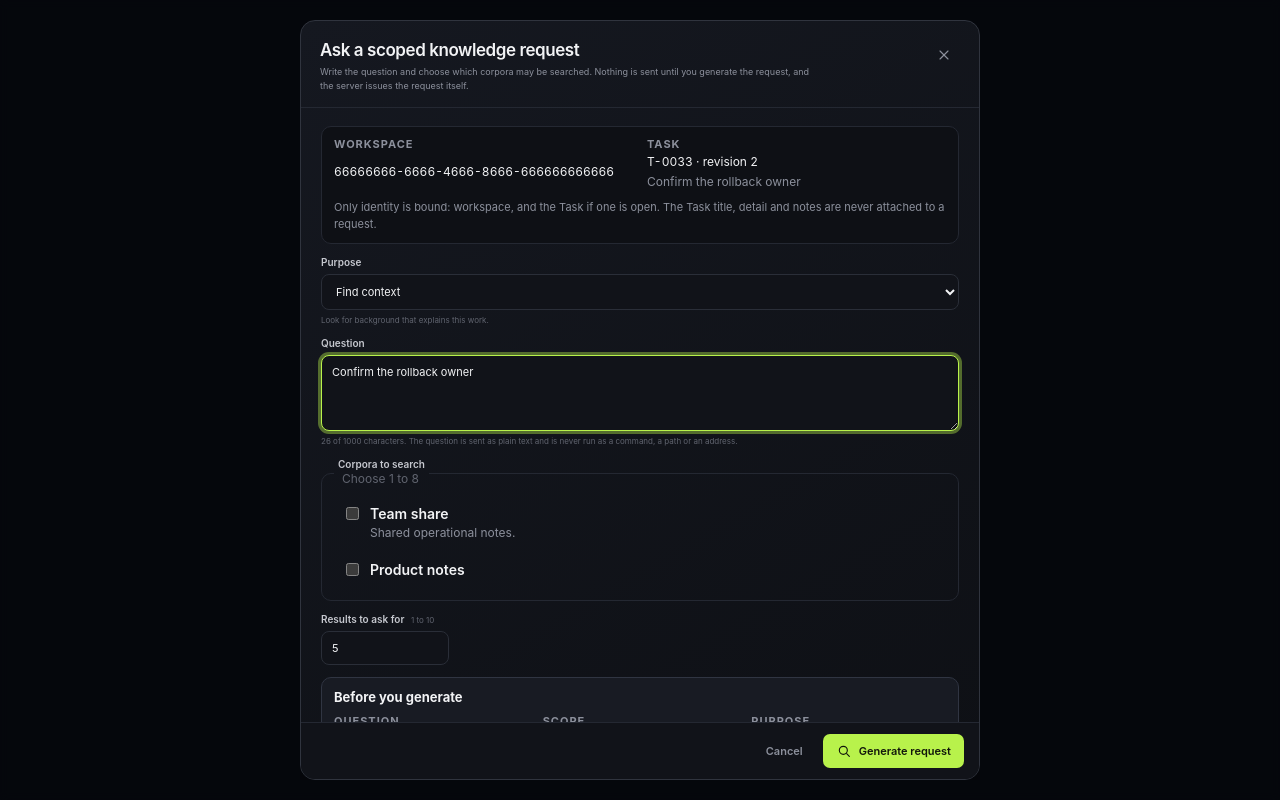
Test: the reviewed question and scope are what is issued, and only then can be copied
Expected: the element "Issued request" is not shown
Expected: the button "Copy request" is not shown
Replace the text in the text box labelled "Question" with "rollback verification owner" at [640, 393], box [321,355,959,431]
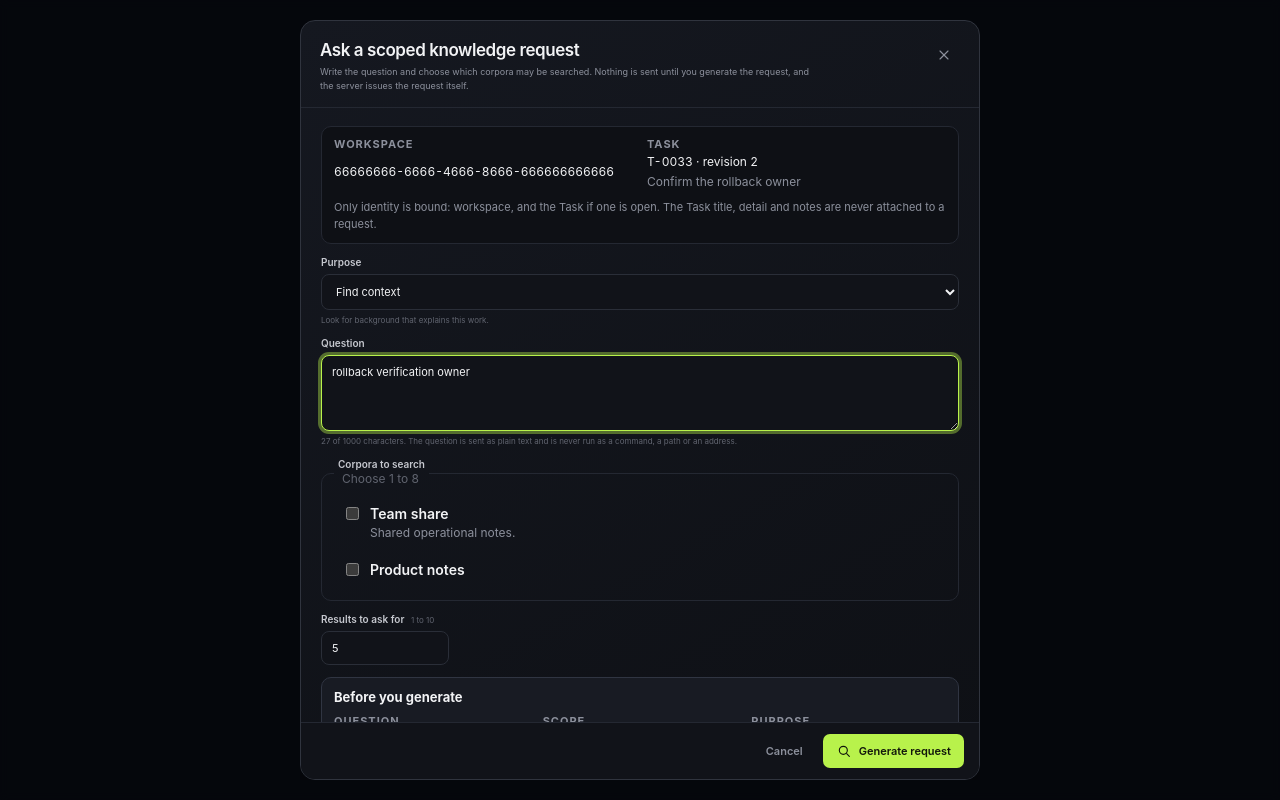
Click the checkbox labelled "Team share Shared operational notes.".
click(352, 514)  # box [346,507,359,520]
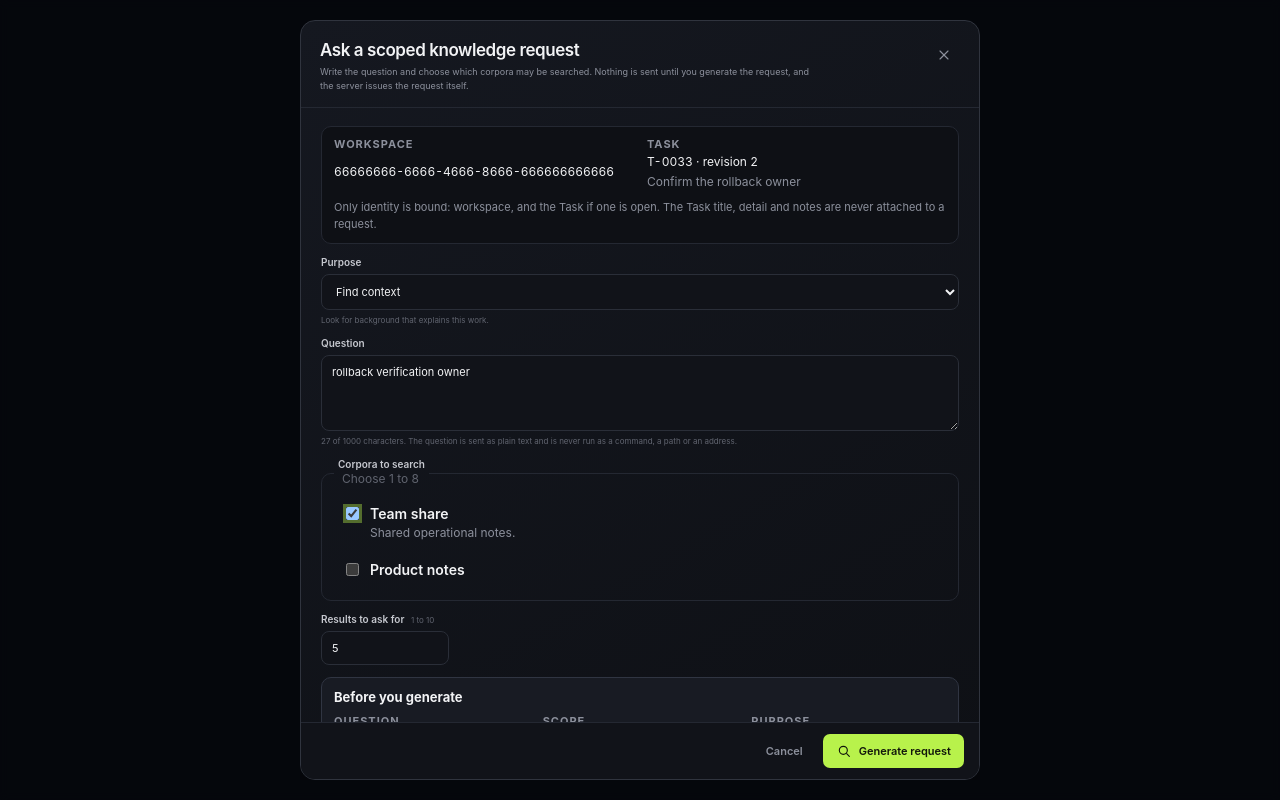
Click the button "Generate request".
click(893, 751)  # box [823,734,964,768]
(page scrolled)
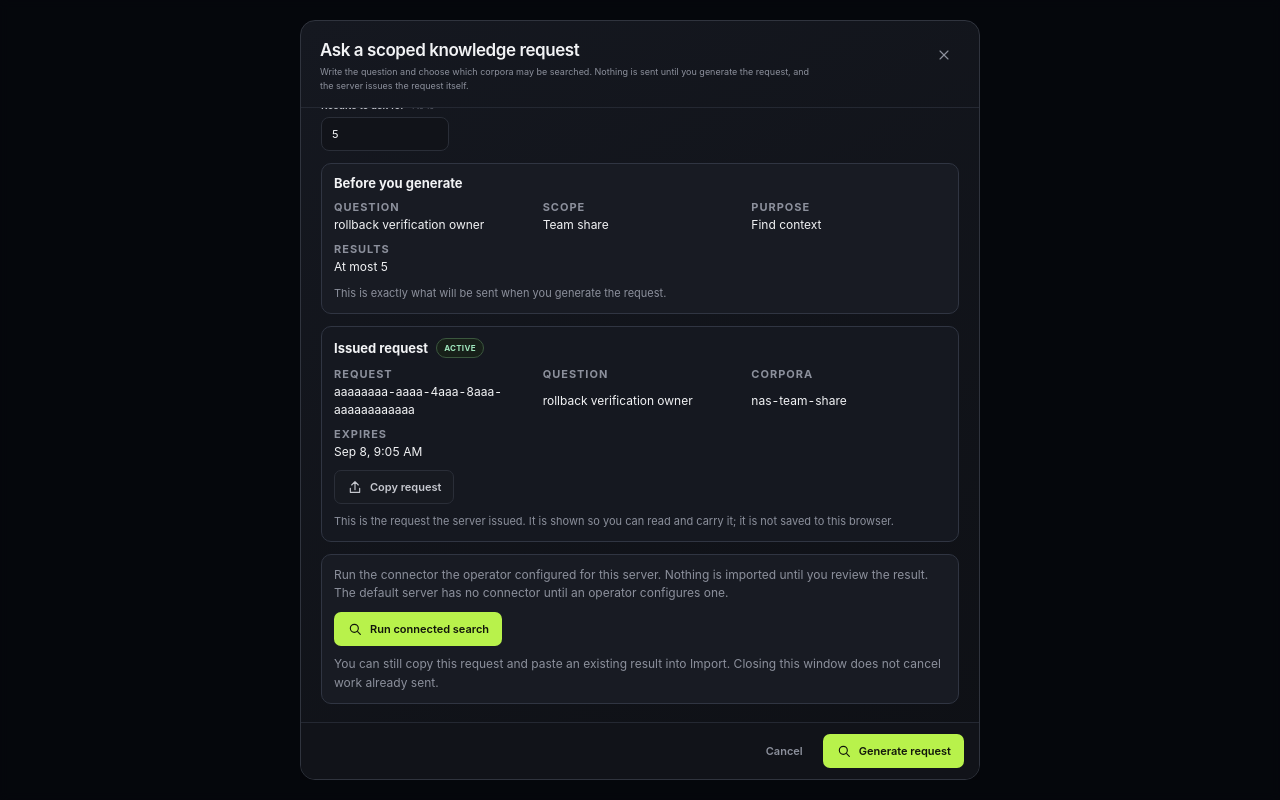
Now the element "Issued request" shows "aaaaaaaa-aaaa-4aaa-8aaa-aaaaaaaaaaaa", box [334,384,502,417]
Now the element "Issued request" shows "rollback verification owner", box [543,393,693,408]
Click the button "Copy request".
click(394, 487)  # box [334,470,454,504]
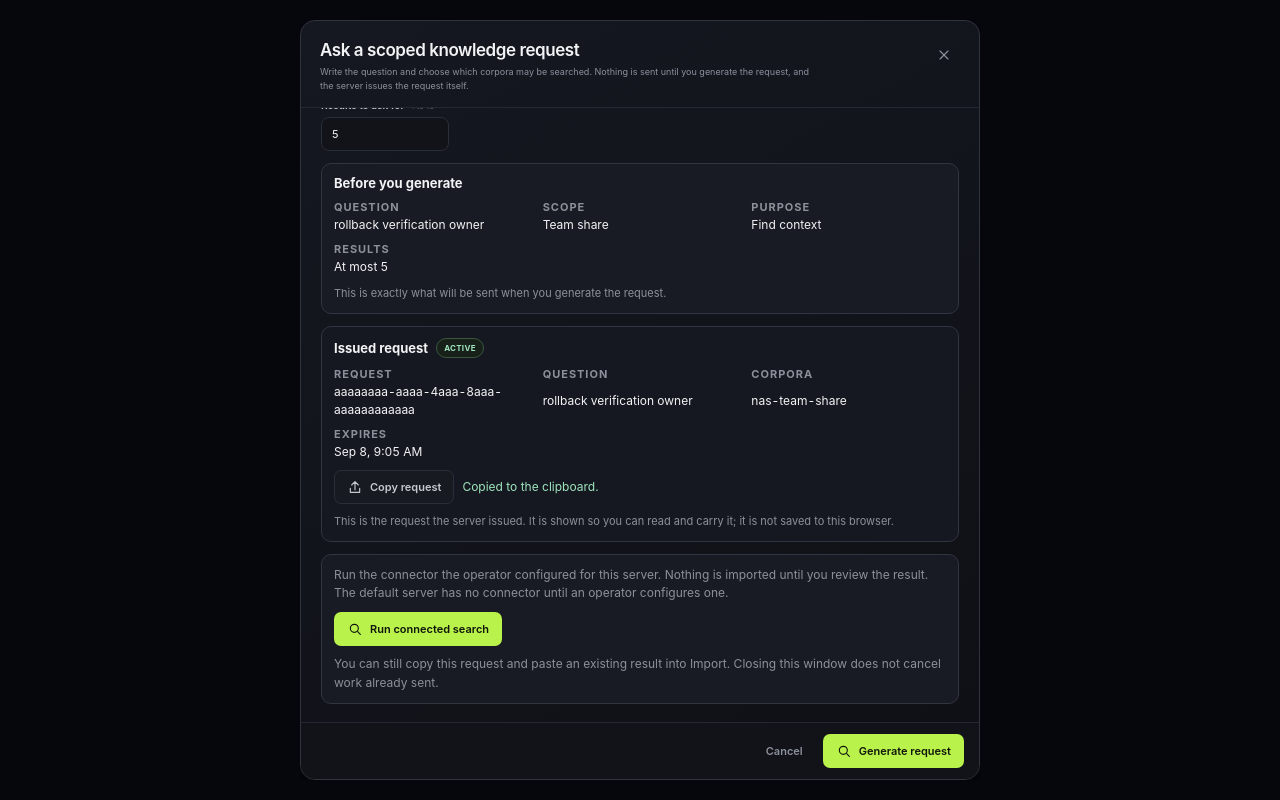
Now the text "Copied to the clipboard." is shown, box [462,479,599,494]
